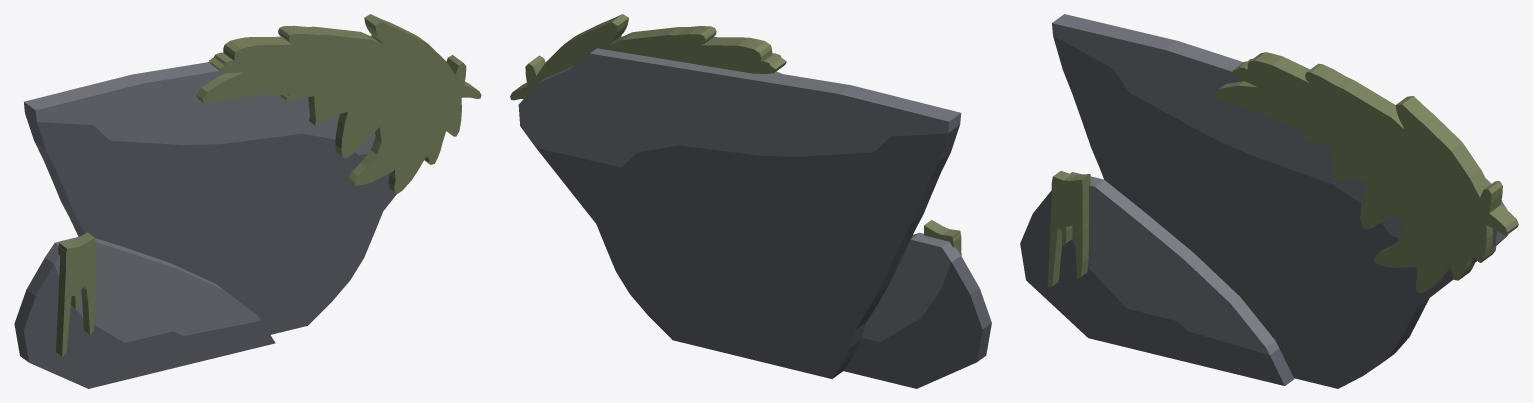
File: Rock_1.fbx
3 renders of one model, left to right at view 1: azimuth 30°, elevation 25°; view 2: azimuth 150°, elevation 25°; view 3: azimuth 330°, elevation 25°, orthographic. The views are drawn at different scales.
Parts seen in each view (by area): view 1: pPlane29, pPlane58, pPlane30, pPlane59; view 2: pPlane29, pPlane30, pPlane58, pPlane59; view 3: pPlane29, pPlane58, pPlane30, pPlane59.
Part boxes in pixels (x1,y1,x2,y2): pPlane29: (24, 35, 446, 334); pPlane58: (196, 14, 481, 193); pPlane30: (14, 236, 275, 388); pPlane59: (56, 232, 95, 356); pPlane29: (518, 48, 961, 378); pPlane30: (844, 232, 991, 388); pPlane58: (510, 14, 786, 100); pPlane59: (924, 220, 961, 255); pPlane29: (1052, 14, 1508, 388); pPlane58: (1214, 52, 1518, 292); pPlane30: (1020, 172, 1294, 385); pPlane59: (1047, 171, 1090, 287).
Bounding box in the file's own units: 0.7065 × 0.442 × 0.0719.
